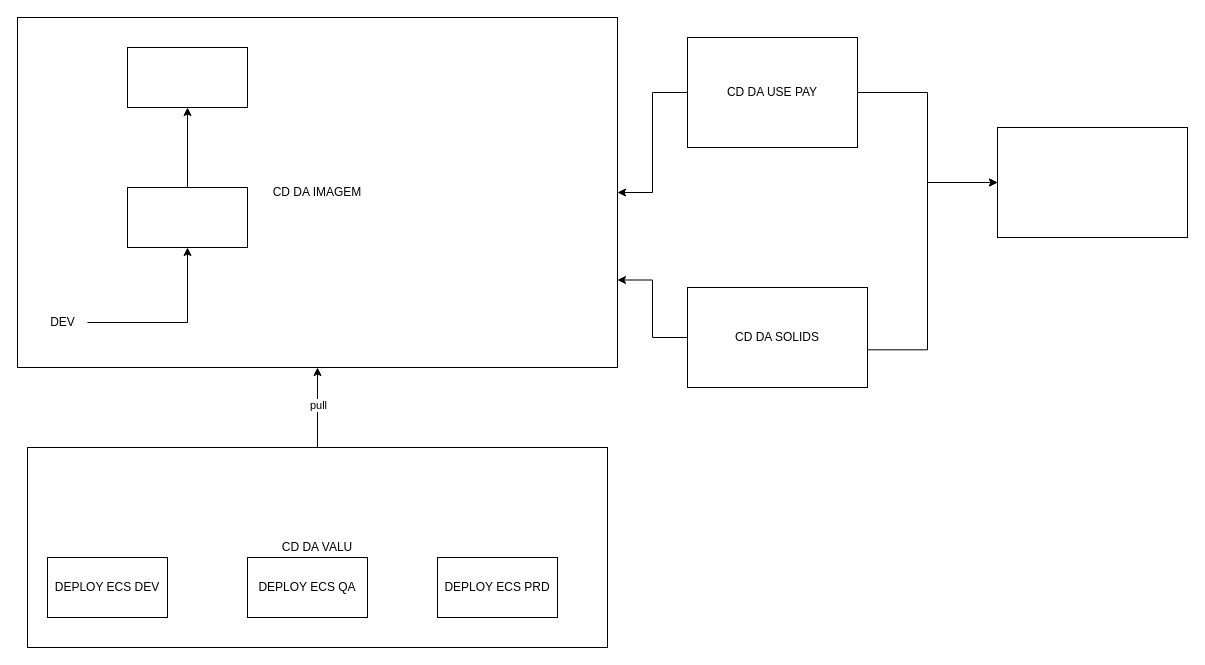
This 1205x665 diagram has some shape labels left out. The centre of each missing label's shape, as x and y in pixels:
"IMAGEM GERAL ECR" goes at point (187, 217).
"TEMPLATE" goes at point (187, 77).
"TEMPLATE CD APP" goes at point (1092, 182).
